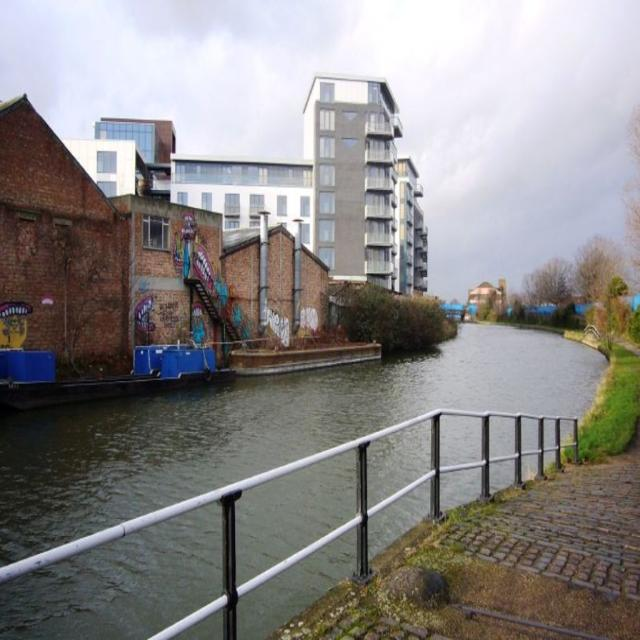Boat: (0, 345, 236, 400)
